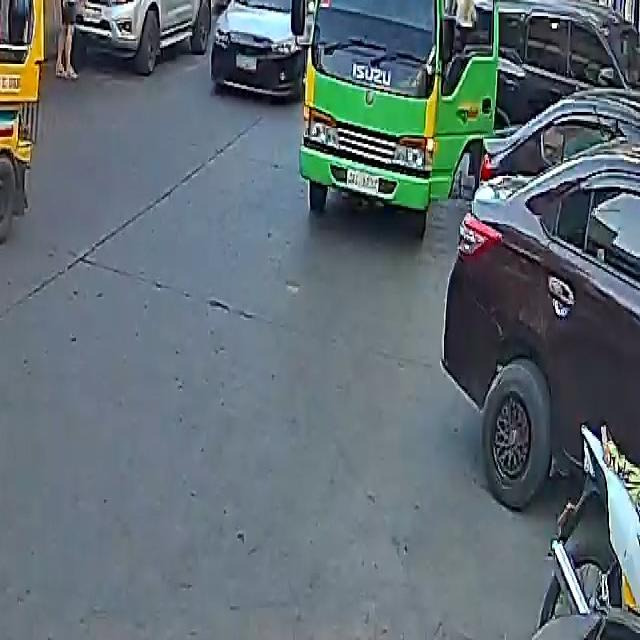car: (439, 69, 640, 528), (206, 0, 314, 100), (68, 0, 223, 69)
